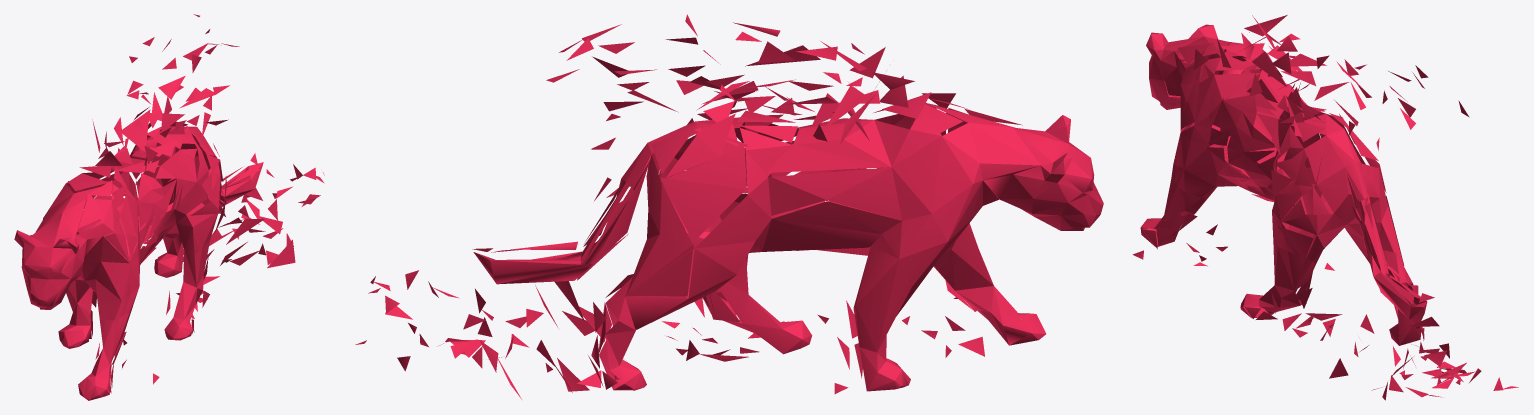
The model's file is leopard.gltfpack.glb.
3 renders of one model, left to right at view 1: azimuth 30°, elevation 25°; view 2: azimuth 150°, elevation 25°; view 3: azimuth 270°, elevation 25°, orthographic. The views are drawn at different scales.
Parts seen in each view (by area): view 1: m101, m198, m081, m454, m565, m200, m610, m724, m444, m067, m100, m298 (+5 smaller); view 2: m155, m405, m168, m364, m025, m161, m580, m154, m027, m170, m158, m608 (+31 smaller); view 3: m008, m442, m051, m288, m492, m432, m120, m435, m431, m058, m423, m344 (+2 smaller).
Boxes of the visible parts, left/top/right/bottom form: m101: left=95, top=280, right=121, bottom=320; m198: left=101, top=261, right=129, bottom=300; m081: left=120, top=109, right=150, bottom=151; m454: left=30, top=213, right=62, bottom=247; m565: left=78, top=192, right=105, bottom=227; m200: left=101, top=236, right=129, bottom=263; m610: left=63, top=199, right=86, bottom=234; m724: left=267, top=239, right=295, bottom=268; m444: left=193, top=213, right=217, bottom=247; m067: left=184, top=228, right=196, bottom=287; m100: left=103, top=318, right=118, bottom=364; m298: left=177, top=150, right=196, bottom=181; m155: left=660, top=177, right=745, bottom=242; m405: left=827, top=167, right=901, bottom=220; m168: left=892, top=136, right=941, bottom=213; m364: left=767, top=144, right=890, bottom=172; m025: left=762, top=219, right=867, bottom=251; m161: left=661, top=147, right=746, bottom=193; m580: left=771, top=167, right=890, bottom=200; m154: left=625, top=244, right=693, bottom=296; m027: left=856, top=260, right=898, bottom=352; m170: left=932, top=136, right=972, bottom=213; m158: left=695, top=195, right=755, bottom=248; m608: left=772, top=201, right=880, bottom=233; m008: left=1316, top=136, right=1344, bottom=184; m442: left=1214, top=73, right=1259, bottom=99; m051: left=1184, top=170, right=1215, bottom=197; m288: left=1277, top=226, right=1313, bottom=260; m492: left=1184, top=146, right=1216, bottom=174; m432: left=1317, top=167, right=1348, bottom=193; m120: left=1275, top=248, right=1294, bottom=290; m435: left=1307, top=134, right=1327, bottom=182; m431: left=1317, top=185, right=1348, bottom=212; m058: left=1163, top=186, right=1184, bottom=219; m423: left=1252, top=51, right=1286, bottom=86; m344: left=1381, top=205, right=1403, bottom=265.
Bounding box in the file's own units: 4.72 × 2.83 × 3.37.
